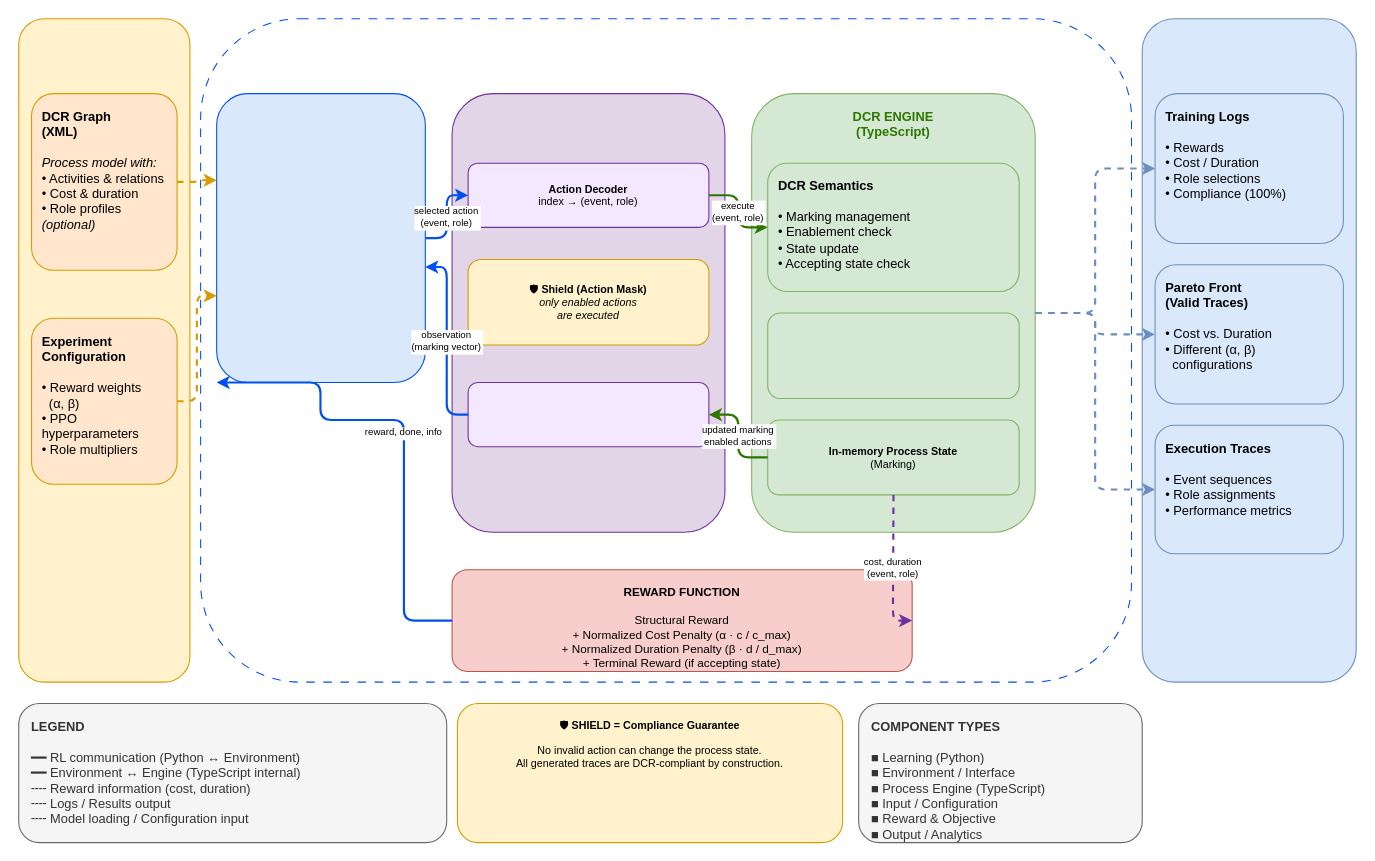
Some shapes in this 1375 by 861 pixel diagram are drawn without their labels. Here are the shapes that lost their labels. From the top down, the box of each, then its label:
(216, 93, 425, 383): PPO AGENT (Stable Baselines 3) • Policy (Actor) • Value Function (Critic)
(451, 93, 725, 532): DCR RL ENVIRONMENT (Node Adapter / RL Interface)
(18, 18, 190, 682): INPUT (Model & Configuration)
(200, 18, 1132, 682): TRAINING LOOP (per environment step)
(767, 312, 1019, 399): 🛡 SHIELD Invalid actions are blocked (state not modified)
(1141, 18, 1356, 682): OUTPUT (Results & Analytics)
(467, 381, 709, 447): State Encoder marking → observation
